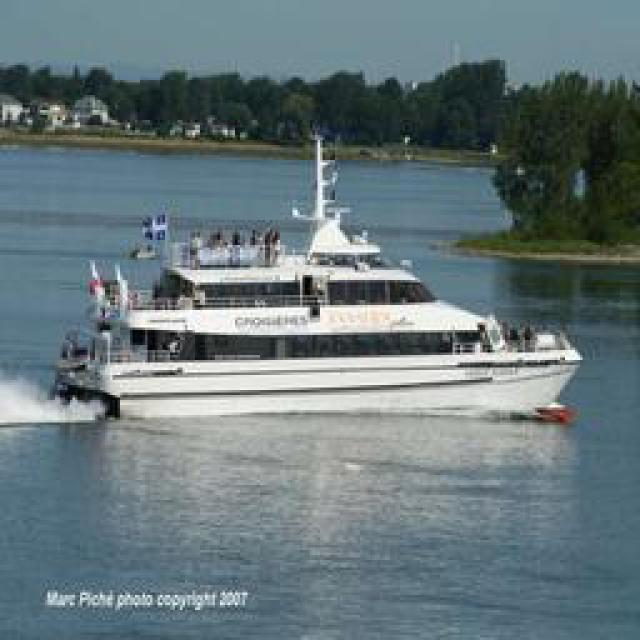Ship: (42, 182, 582, 422)
